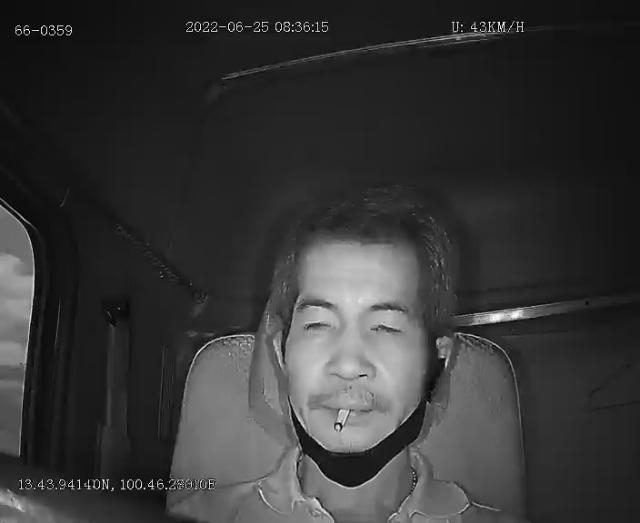SafeDriving: (292, 302, 342, 340), (363, 311, 408, 342)
Smoking: (333, 408, 349, 432)
